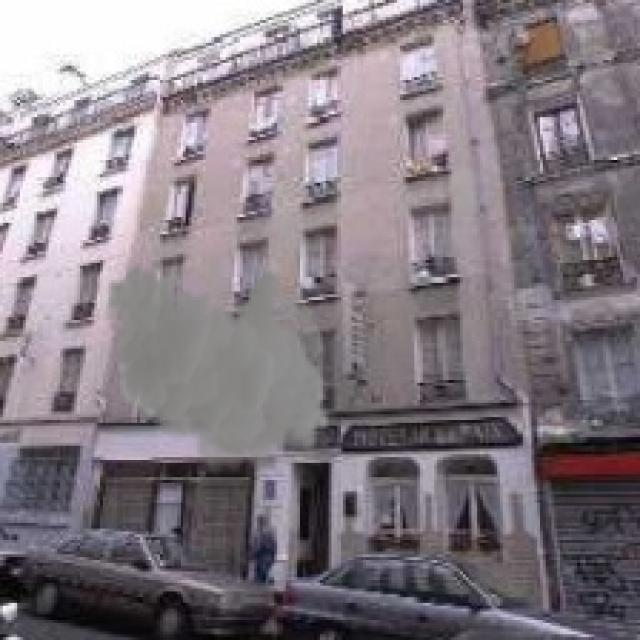smoke: (106, 257, 331, 483)
